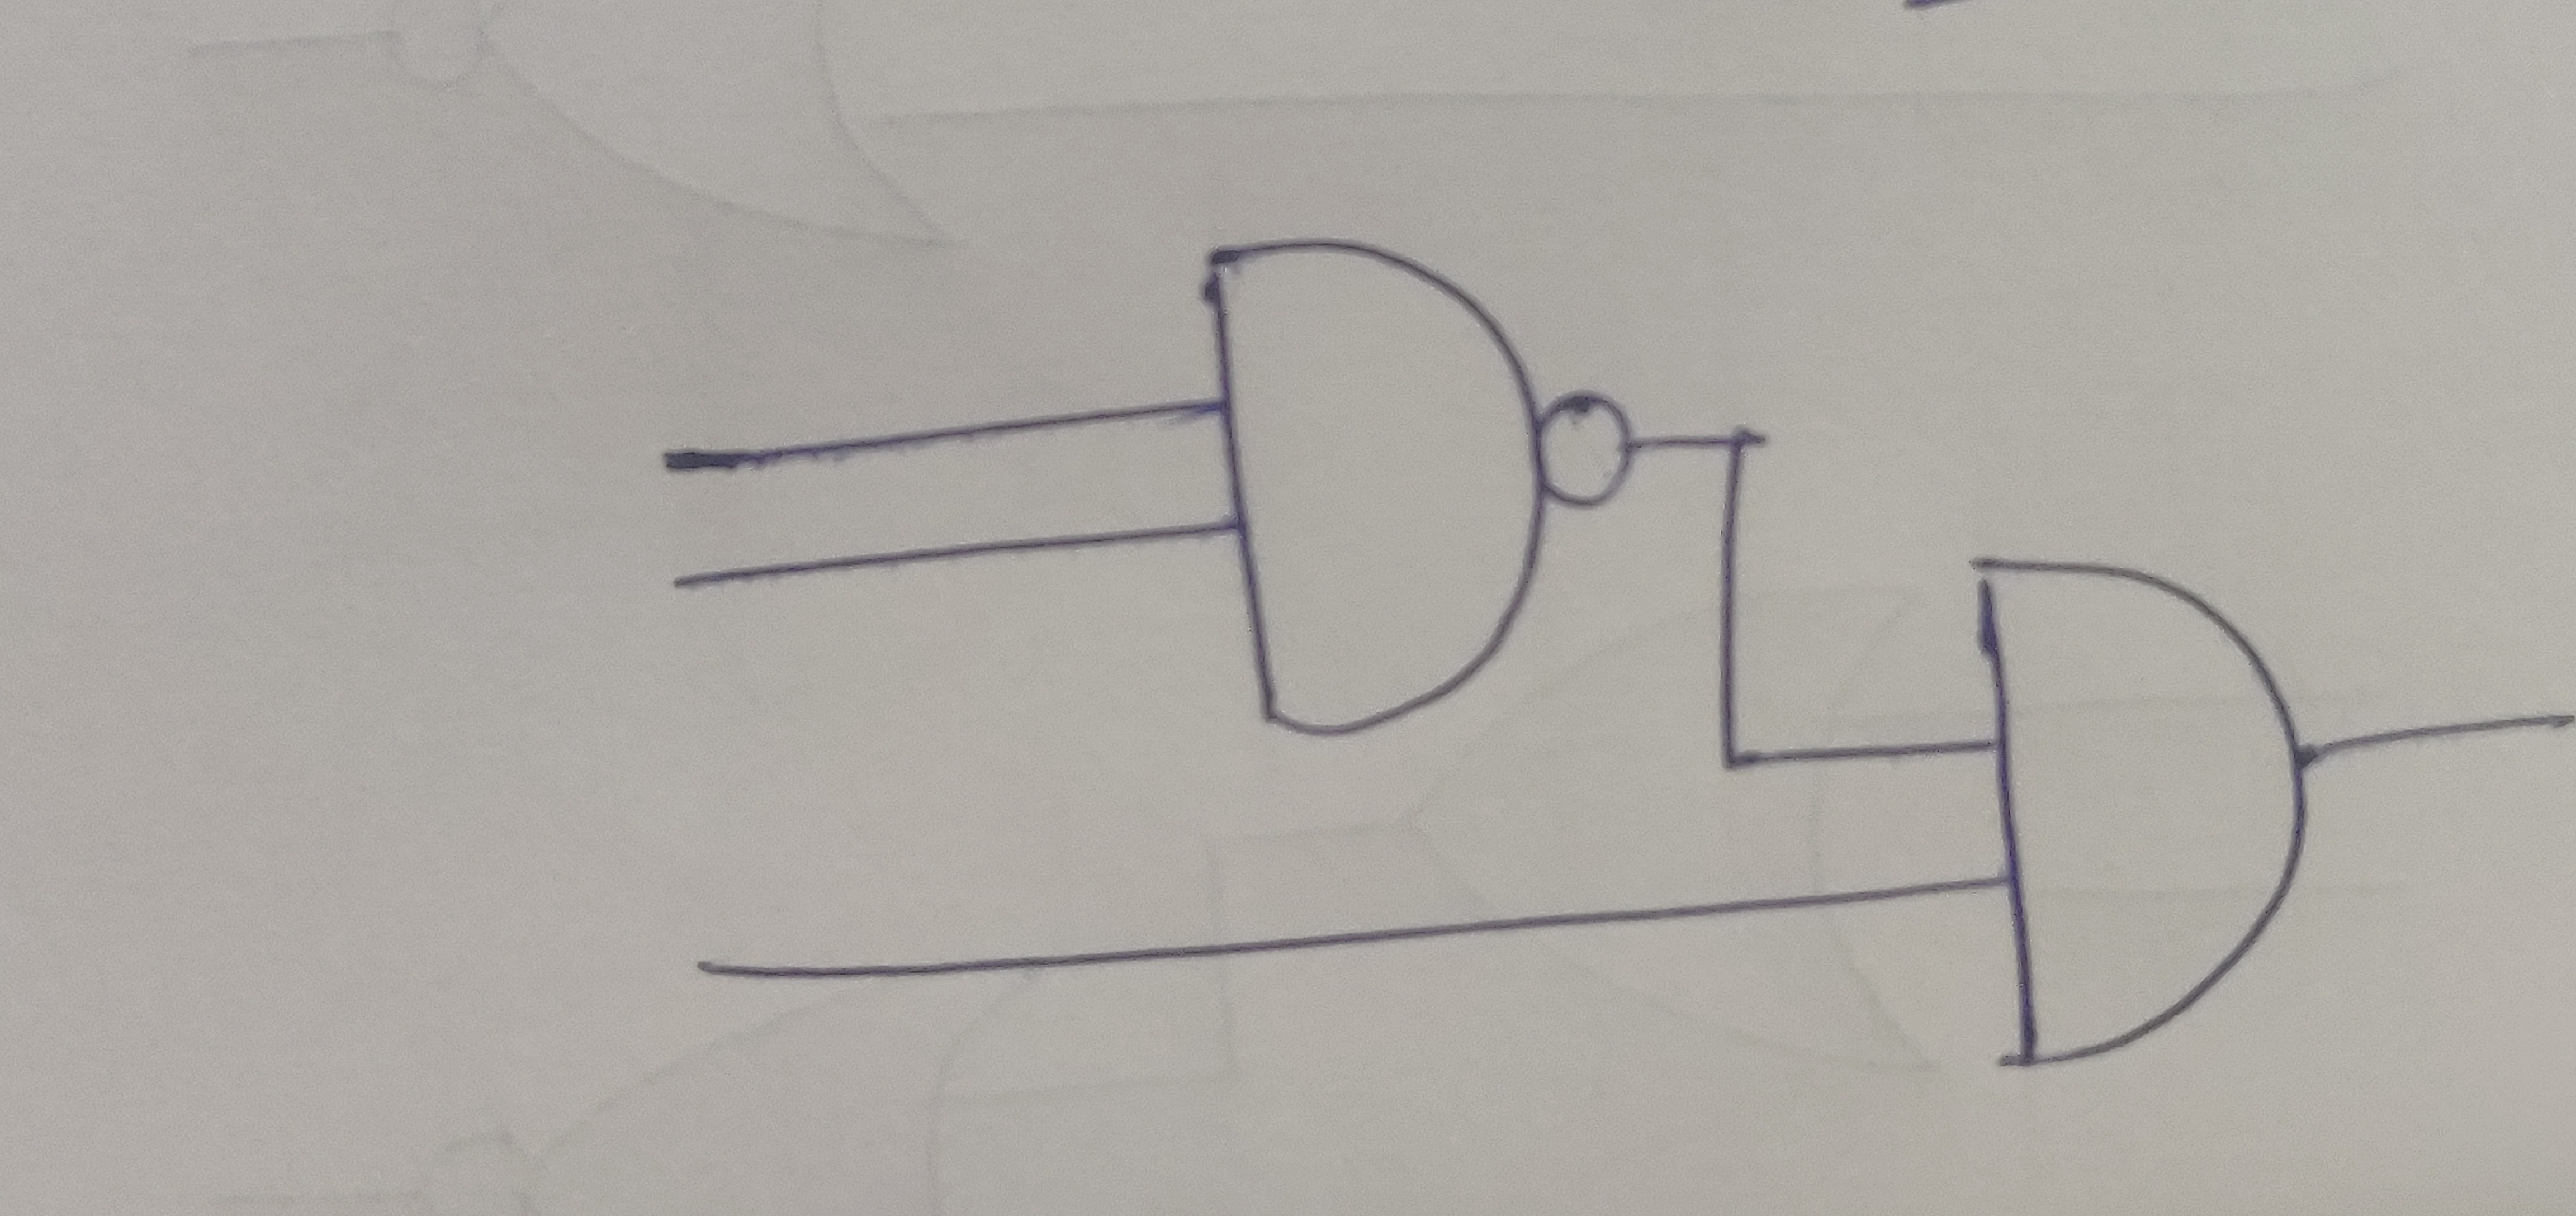and: (1968, 555, 2316, 1075), (1199, 237, 1544, 736)
not: (1538, 391, 1649, 509)
